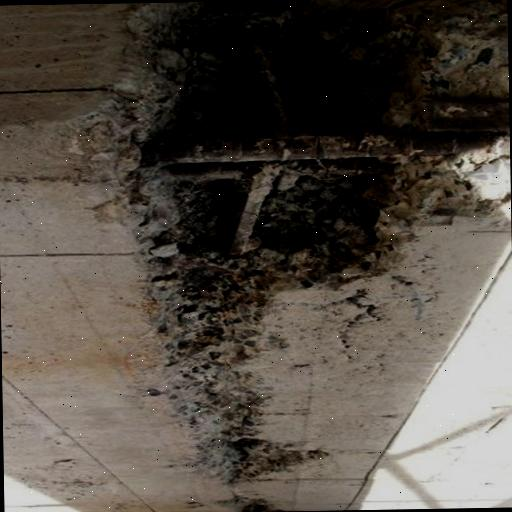spalling: (108, 0, 509, 472)
